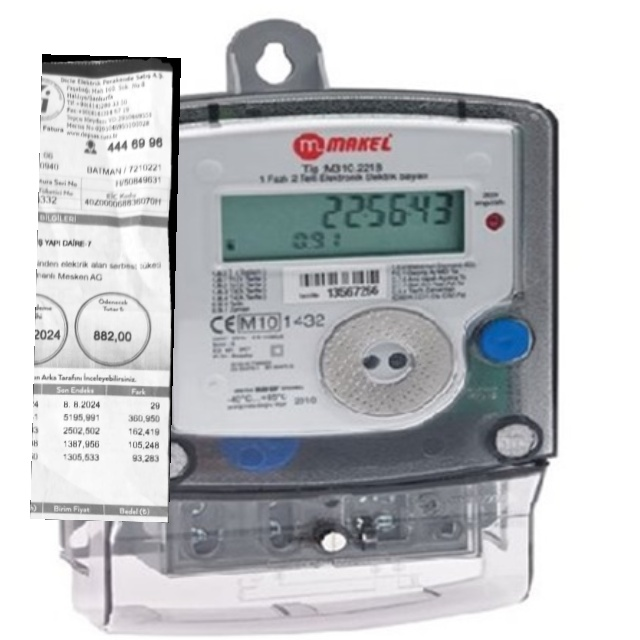electricity-bill: (29, 54, 180, 522)
